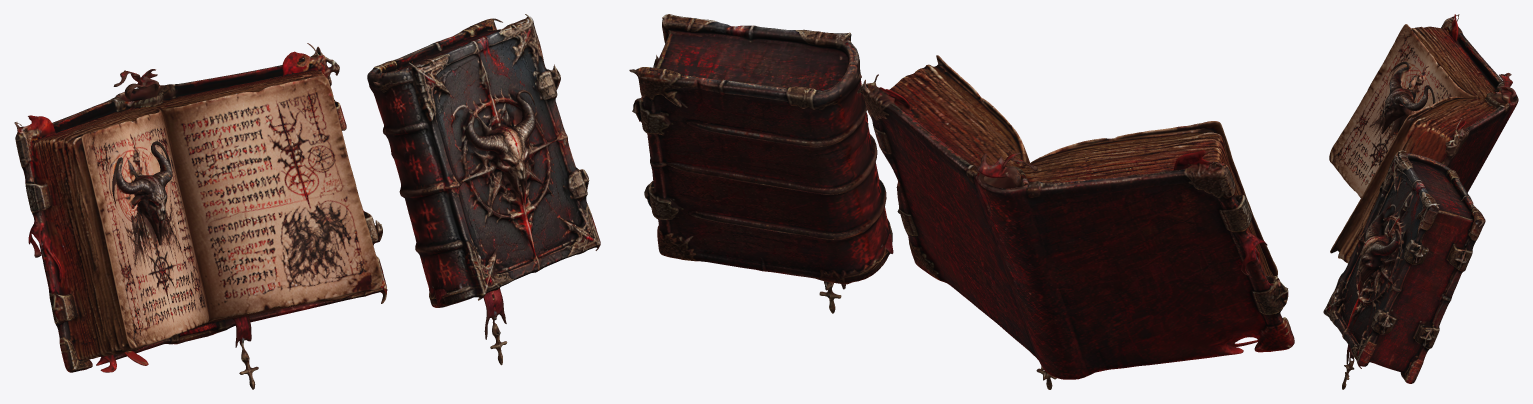
The model's file is spellbook.glb.
3 views of the same model, side by side, from view 1: azimuth 30°, elevation 25°; view 2: azimuth 150°, elevation 25°; view 3: azimuth 270°, elevation 25° (orthographic). The views are drawn at different scales.
Visible parts, largest first — view 1: tripo_node_bab3be5c-ea57-4f6c-aea6-b51fd5e18e02; view 2: tripo_node_bab3be5c-ea57-4f6c-aea6-b51fd5e18e02; view 3: tripo_node_bab3be5c-ea57-4f6c-aea6-b51fd5e18e02.
Part boxes in pixels (x1=…): tripo_node_bab3be5c-ea57-4f6c-aea6-b51fd5e18e02: x1=14, y1=14, x2=600, y2=389; tripo_node_bab3be5c-ea57-4f6c-aea6-b51fd5e18e02: x1=629, y1=14, x2=1294, y2=389; tripo_node_bab3be5c-ea57-4f6c-aea6-b51fd5e18e02: x1=1323, y1=14, x2=1518, y2=389.
Size of the model in its own units: 0.9729 by 0.5082 by 0.3969.
1 material, 1 textured.
